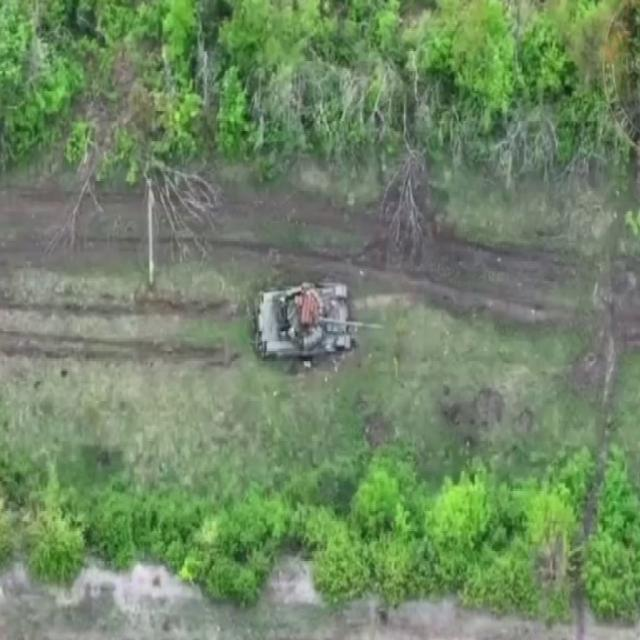TANK: (254, 269, 384, 363)
